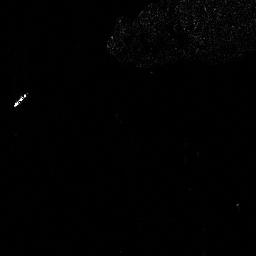ship: (12, 93, 30, 106)
